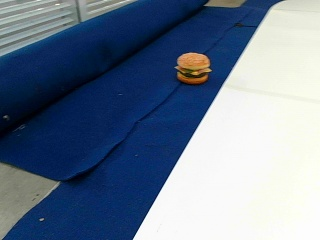burger: (174, 50, 211, 83)
